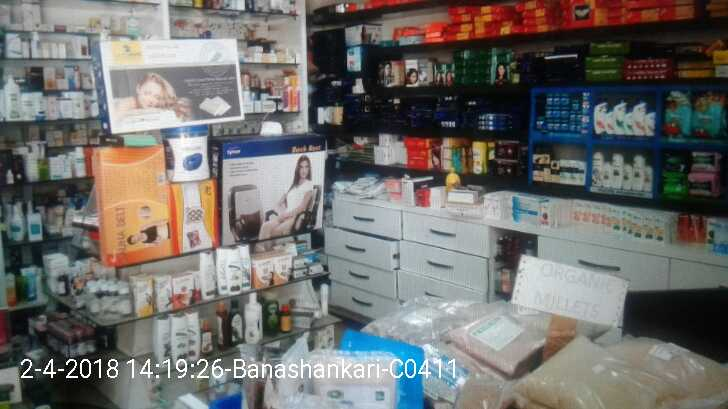vicks: (536, 92, 592, 131)
